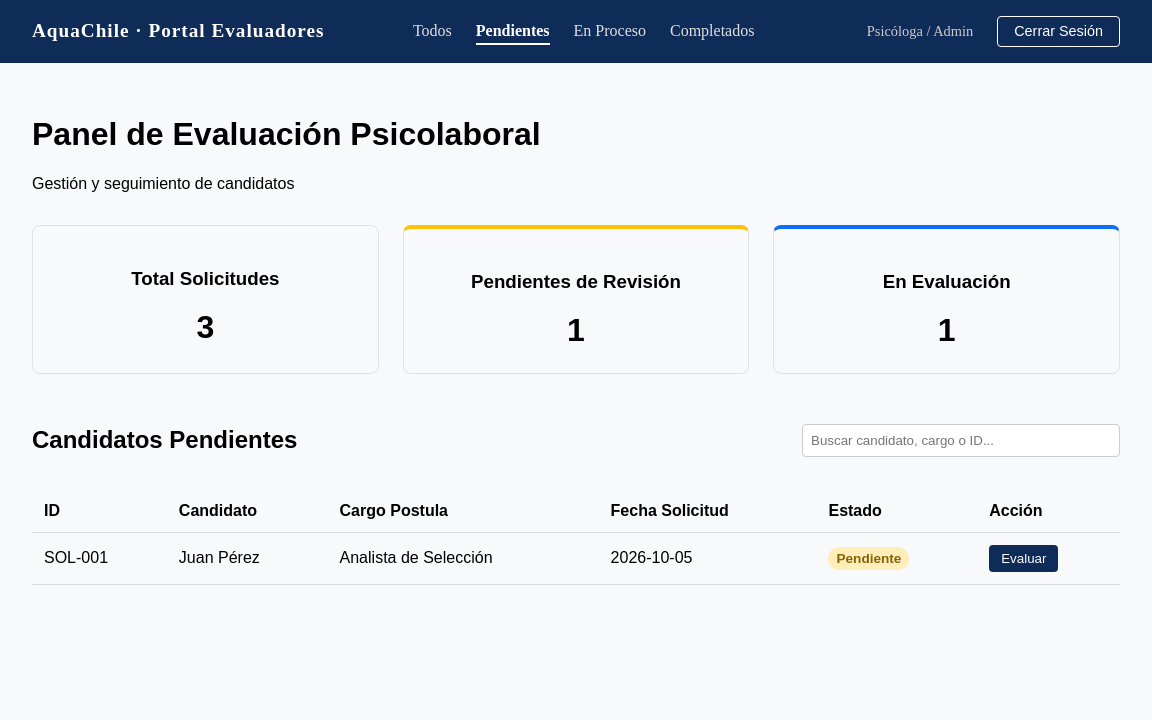
it: App (navegación) › desde el dashboard se llega al detalle y se puede volver
Click the button "Evaluar" at (1024, 558), box [989,545,1058,572]
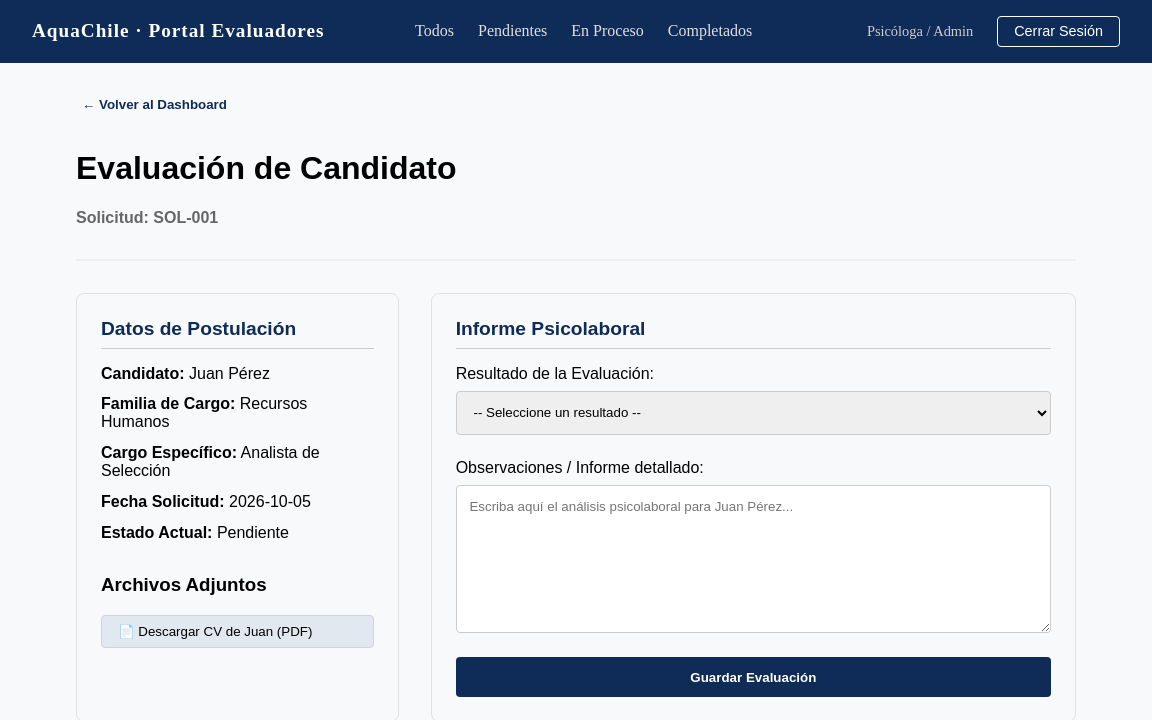
Expected: the text "Solicitud: SOL-001" is shown, [76,209,218,226]
Click the button "← Volver al Dashboard" at (154, 104), box [76,96,233,113]
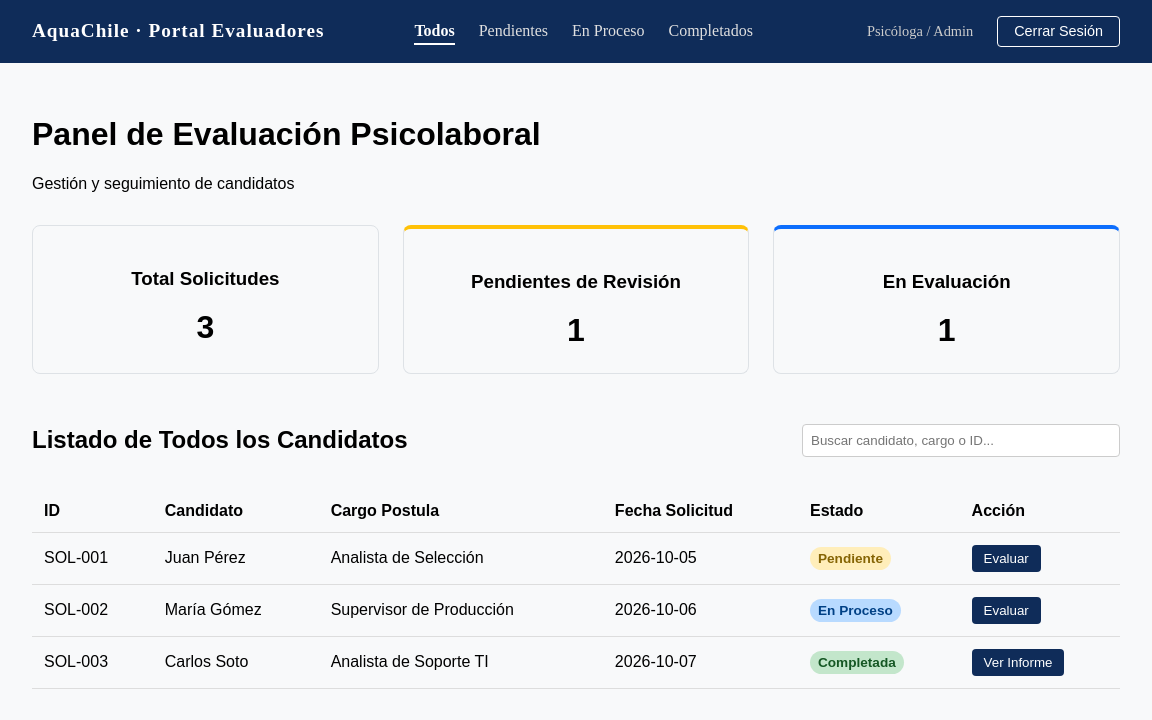
Expected: the heading "Panel de Evaluación Psicolaboral" is shown, [32,116,541,152]
